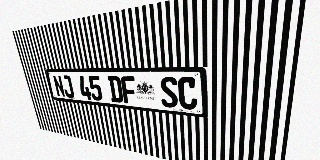4: (77, 75, 92, 100)
5: (88, 76, 103, 101)
C: (177, 77, 197, 110)
D: (107, 76, 124, 103)
F: (120, 76, 137, 104)
J: (61, 75, 75, 98)
N: (52, 75, 66, 97)
S: (159, 77, 178, 108)
